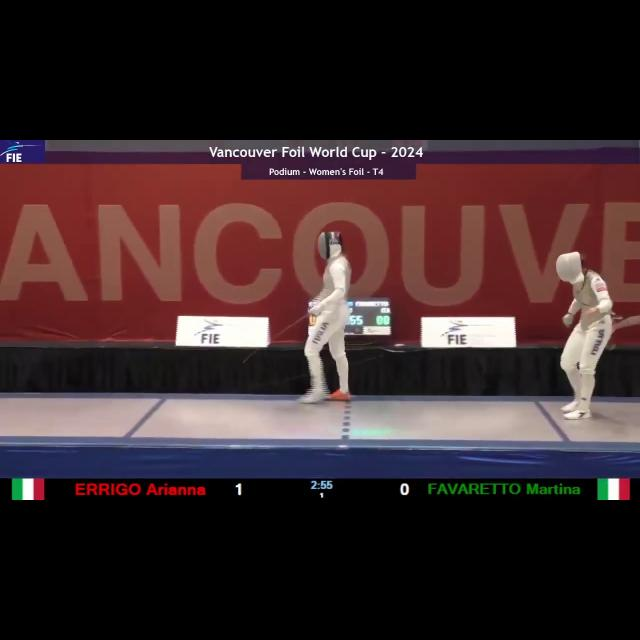blade: (243, 305, 315, 363)
